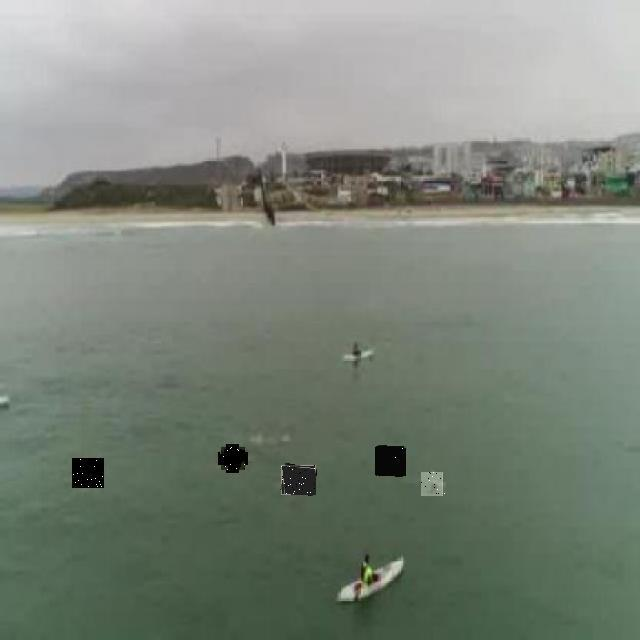swimming: (281, 465, 316, 495), (72, 458, 104, 488), (375, 446, 406, 476), (422, 472, 446, 497), (221, 447, 245, 470)
